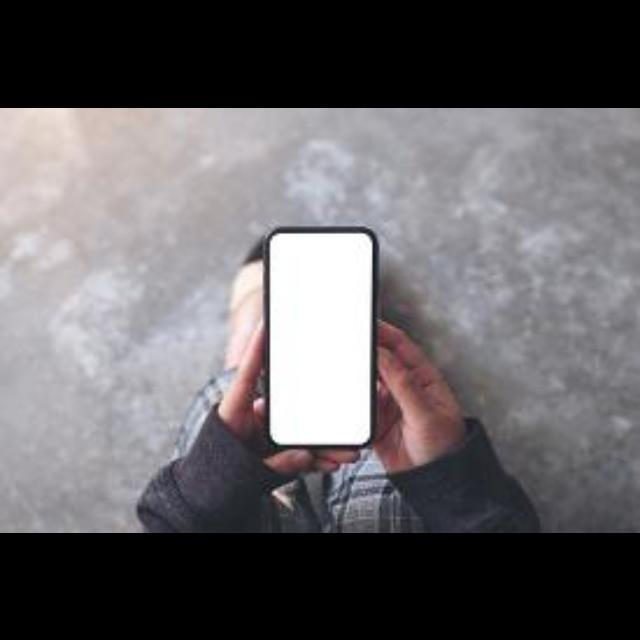phone: (242, 217, 402, 460)
